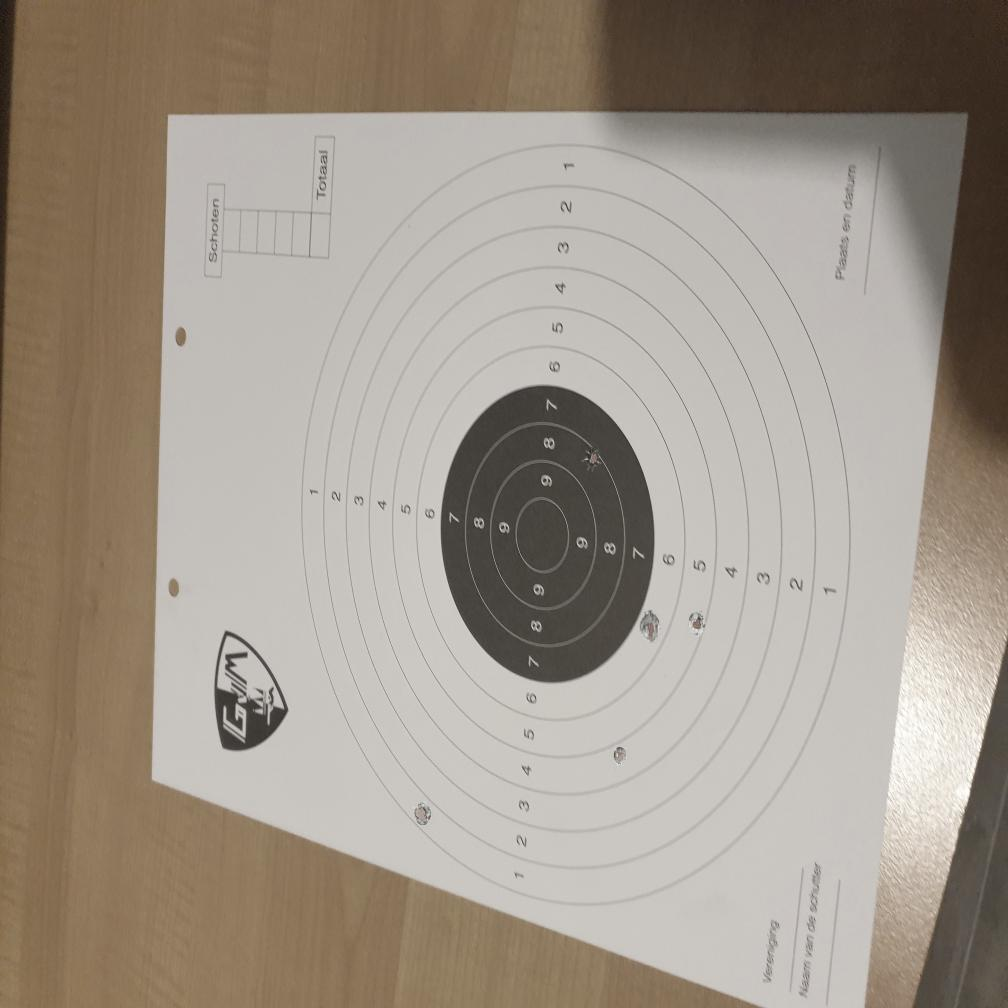1: (412, 801, 433, 827)
4: (613, 744, 628, 766)
5: (688, 610, 706, 637)
6: (640, 609, 661, 644)
8: (581, 448, 601, 473)
Target: (300, 141, 850, 912)
black_contour: (441, 383, 655, 684)
